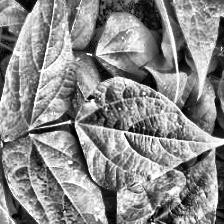Bean Rust: (80, 77, 224, 187), (0, 130, 122, 224), (0, 0, 76, 121), (119, 167, 184, 224)
